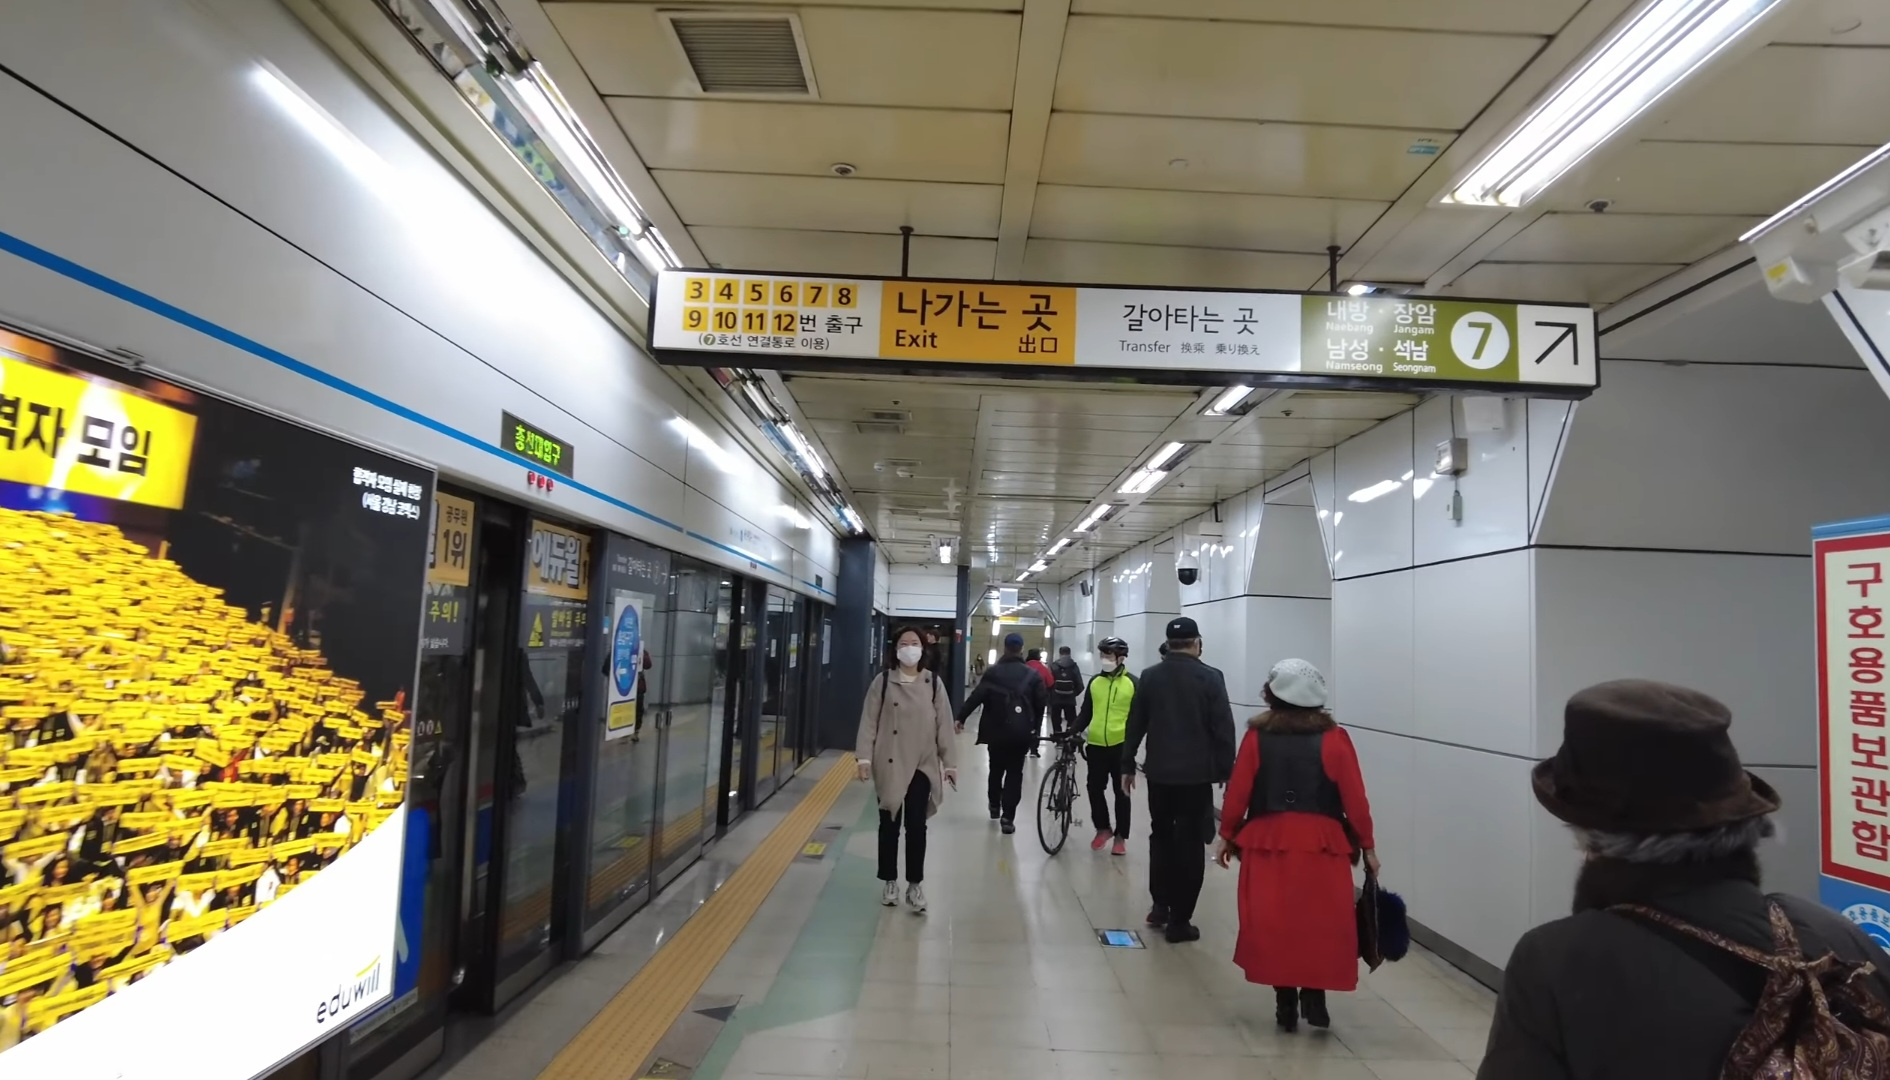signBoard: (654, 264, 1594, 401)
